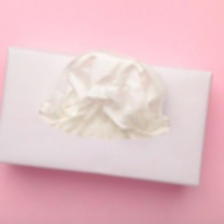book: (0, 40, 219, 192)
tissue: (34, 43, 176, 146)
